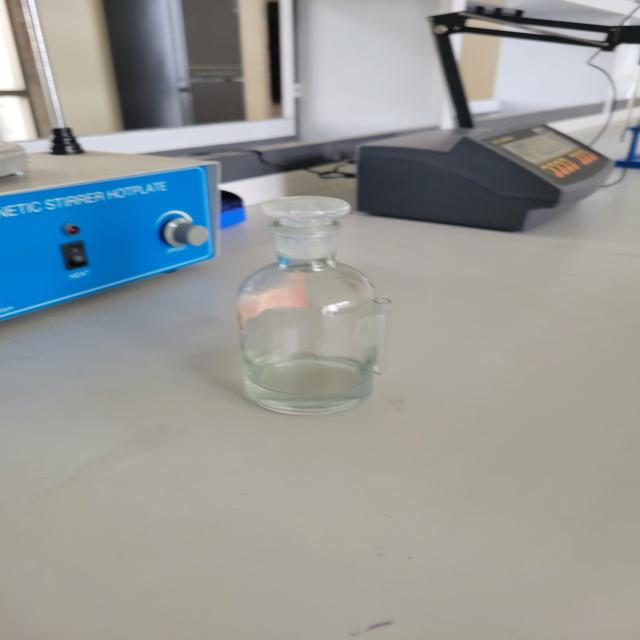Reagent_Bottle: (199, 173, 433, 440)
